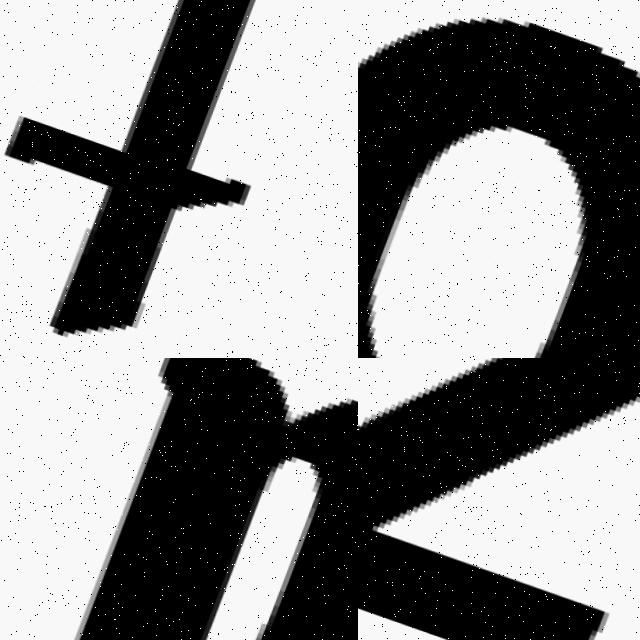A: (0, 358, 358, 640)
O: (358, 0, 640, 358)
T: (0, 0, 358, 358)
Z: (358, 358, 640, 640)
